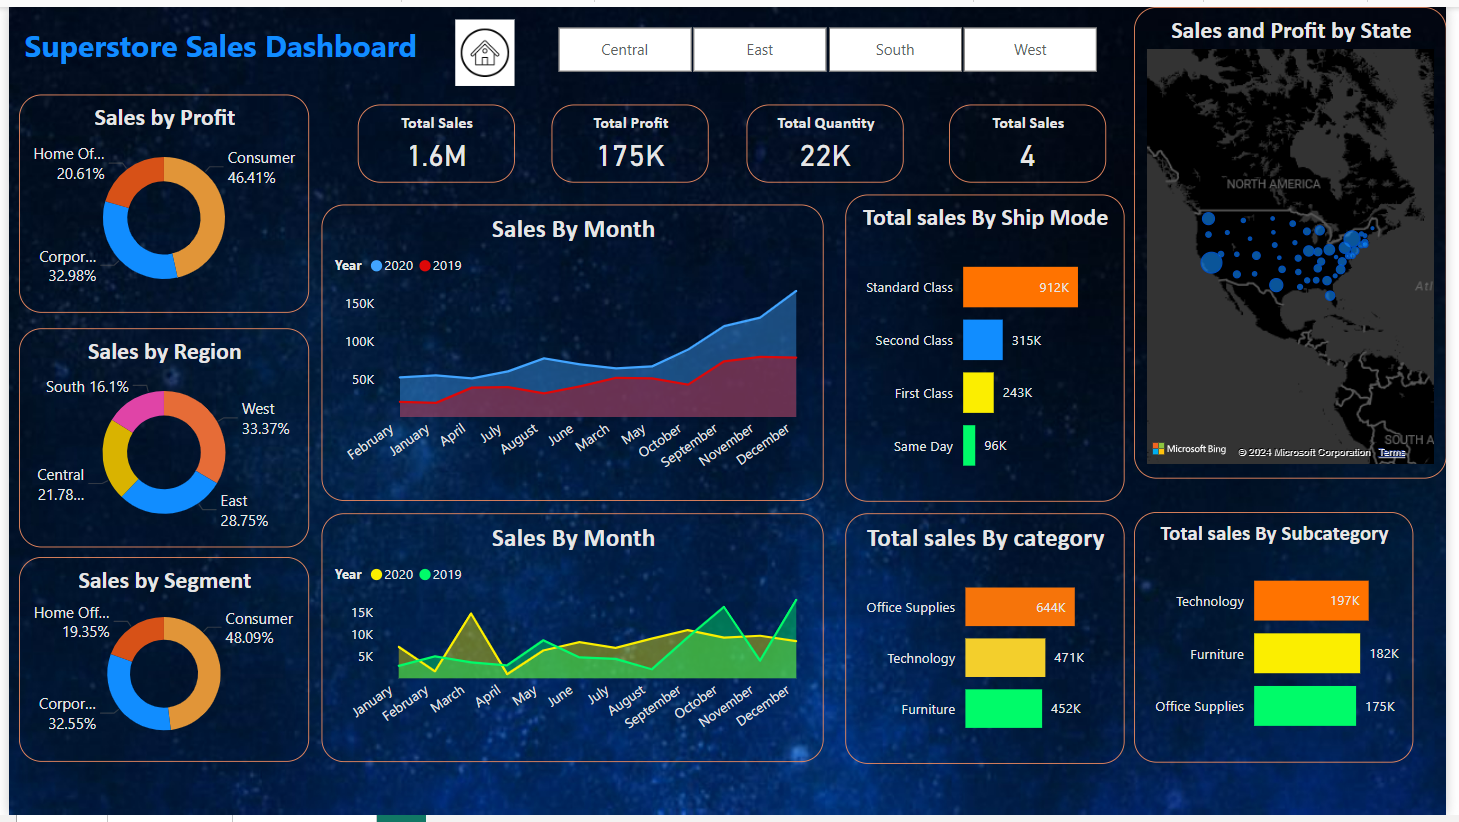

This screenshot's page, from the dashboard's own definition file:
{"tool":"powerbi","page":{"name":"Dashboard","canvas":[1280,720],"ordinal":1},"visuals":[{"type":"clusteredBarChart","title":"Total sales By category ","fields":{"Category":["SuperStore_Sales_Dataset.Category"],"Y":["Sum(SuperStore_Sales_Dataset.Sales)"]},"box":[744.4,451.2,248.5,223.2],"z":0},{"type":"clusteredBarChart","title":"Total sales By Subcategory ","fields":{"Category":["SuperStore_Sales_Dataset.Sub-Category","SuperStore_Sales_Dataset.Category"],"Y":["Sum(SuperStore_Sales_Dataset.Sales)"]},"box":[1001.3,450,248.5,223.2],"z":1000},{"type":"clusteredBarChart","title":"Total sales By Ship Mode","fields":{"Category":["SuperStore_Sales_Dataset.Ship Mode"],"Y":["Sum(SuperStore_Sales_Dataset.Sales)"]},"box":[744.4,166.5,248.5,273.9],"z":2000},{"type":"areaChart","title":"Sales By Month","fields":{"Y":["Sum(SuperStore_Sales_Dataset.Sales)"],"Category":["SuperStore_Sales_Dataset.Order Date.Variation.Date Hierarchy.Month","SuperStore_Sales_Dataset.Order Date.Variation.Date Hierarchy.Day"],"Series":["SuperStore_Sales_Dataset.Order Date.Variation.Date Hierarchy.Year"]},"box":[278.7,176.1,447.6,264.2],"z":3000},{"type":"areaChart","title":"Sales By Month","fields":{"Y":["Sum(SuperStore_Sales_Dataset.Profit)"],"Category":["SuperStore_Sales_Dataset.Order Date.Variation.Date Hierarchy.Month","SuperStore_Sales_Dataset.Order Date.Variation.Date Hierarchy.Day"],"Series":["SuperStore_Sales_Dataset.Order Date.Variation.Date Hierarchy.Year"]},"box":[278.7,451.2,447.6,222],"z":4000},{"type":"donutChart","title":"Sales by Region","fields":{"Category":["SuperStore_Sales_Dataset.Region"],"Y":["Sum(SuperStore_Sales_Dataset.Sales)"]},"box":[8.4,285.9,258.2,195.4],"z":5000},{"type":"map","title":"Sales and Profit by State","fields":{"Category":["SuperStore_Sales_Dataset.State"],"Size":["Sum(SuperStore_Sales_Dataset.Sales)"]},"box":[1001.3,0,278.7,419.8],"z":6000},{"type":"donutChart","title":"Sales by Profit","fields":{"Category":["SuperStore_Sales_Dataset.Segment"],"Y":["Sum(SuperStore_Sales_Dataset.Profit)"]},"box":[8.4,78.4,258.2,194.2],"z":7000},{"type":"donutChart","title":"Sales by Segment","fields":{"Category":["SuperStore_Sales_Dataset.Segment"],"Y":["Sum(SuperStore_Sales_Dataset.Sales)"]},"box":[8.4,489.8,258.2,182.2],"z":8000},{"type":"card","title":" Total Sales","fields":{"Values":["Sum(SuperStore_Sales_Dataset.Sales)"]},"box":[310.1,86.9,139.9,70],"z":9000},{"type":"card","title":" Total Profit","fields":{"Values":["Sum(SuperStore_Sales_Dataset.Profit)"]},"box":[482.6,86.9,139.9,70],"z":10000},{"type":"card","title":" Total Quantity","fields":{"Values":["Sum(SuperStore_Sales_Dataset.Quantity)"]},"box":[656.3,86.9,139.9,70],"z":11000},{"type":"card","title":" Total Sales","fields":{"Values":["Avg(SuperStore_Sales_Dataset.AverageDelivery)"]},"box":[837.3,86.9,139.9,70],"z":12000},{"type":"slicer","fields":{"Values":["SuperStore_Sales_Dataset.Region"]},"box":[463.3,10.9,529.6,53.1],"z":13000},{"type":"textbox","box":[8.4,10.9,441.6,67.6],"z":14000},{"type":"image","box":[396.9,10.9,53.1,59.1],"z":14001}]}

Visuals, with their boxes in screenshot pixels (x1, y1, x2, y2), scaled from the page's 1280x720 canvas onto the 1459x822 screenshot:
"Total sales By category " clusteredBarChart: box(848, 515, 1132, 770)
"Total sales By Subcategory " clusteredBarChart: box(1141, 514, 1425, 769)
"Total sales By Ship Mode" clusteredBarChart: box(848, 190, 1132, 503)
"Sales By Month" areaChart: box(318, 201, 828, 503)
"Sales By Month" areaChart: box(318, 515, 828, 769)
"Sales by Region" donutChart: box(10, 326, 304, 549)
"Sales and Profit by State" map: box(1141, 0, 1458, 479)
"Sales by Profit" donutChart: box(10, 90, 304, 311)
"Sales by Segment" donutChart: box(10, 559, 304, 767)
" Total Sales" card: box(353, 99, 513, 179)
" Total Profit" card: box(550, 99, 710, 179)
" Total Quantity" card: box(748, 99, 908, 179)
" Total Sales" card: box(954, 99, 1114, 179)
slicer - SuperStore_Sales_Dataset.Region: box(528, 12, 1132, 73)
textbox: box(10, 12, 513, 90)
image: box(452, 12, 513, 80)
